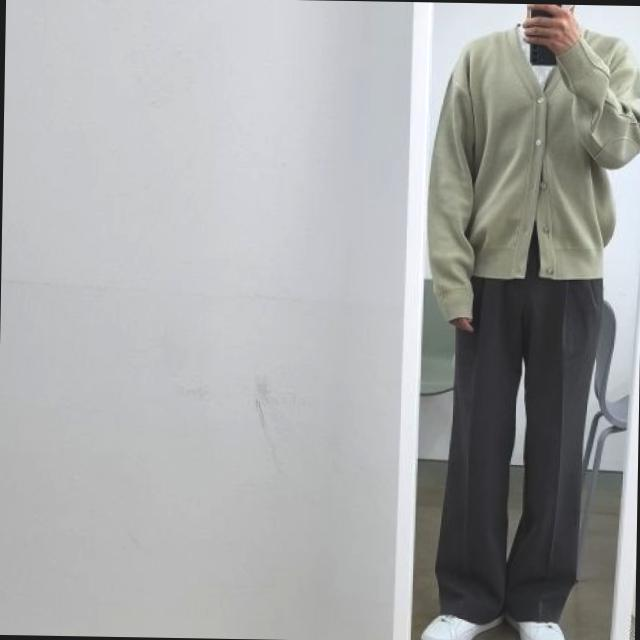cardigan: (422, 22, 640, 322)
slacks: (436, 247, 605, 624)
